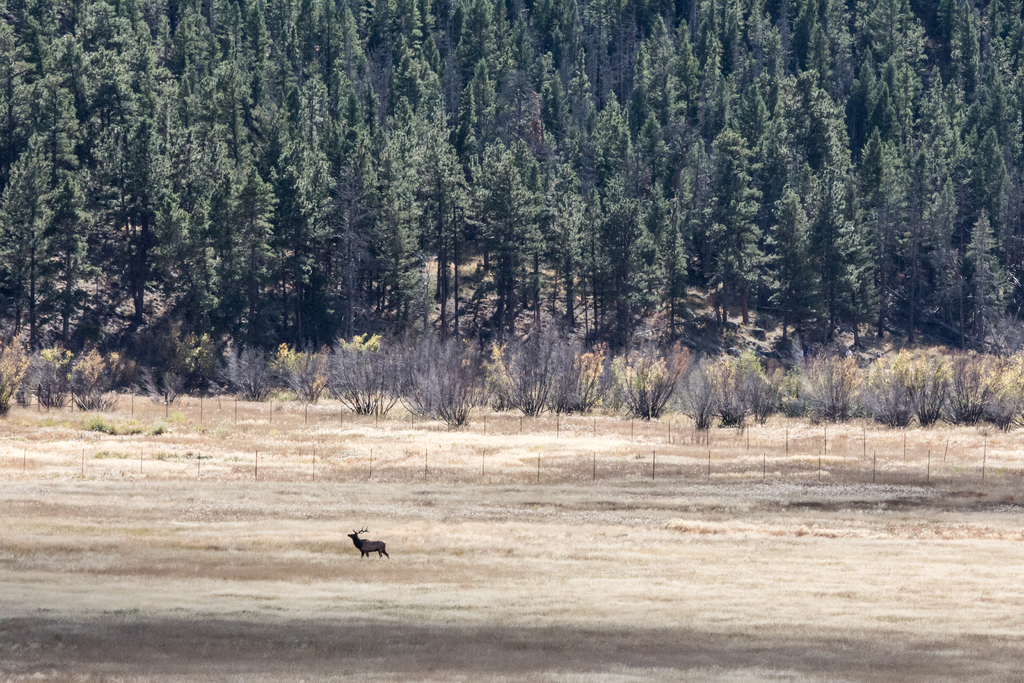Animal: (345, 520, 390, 558)
